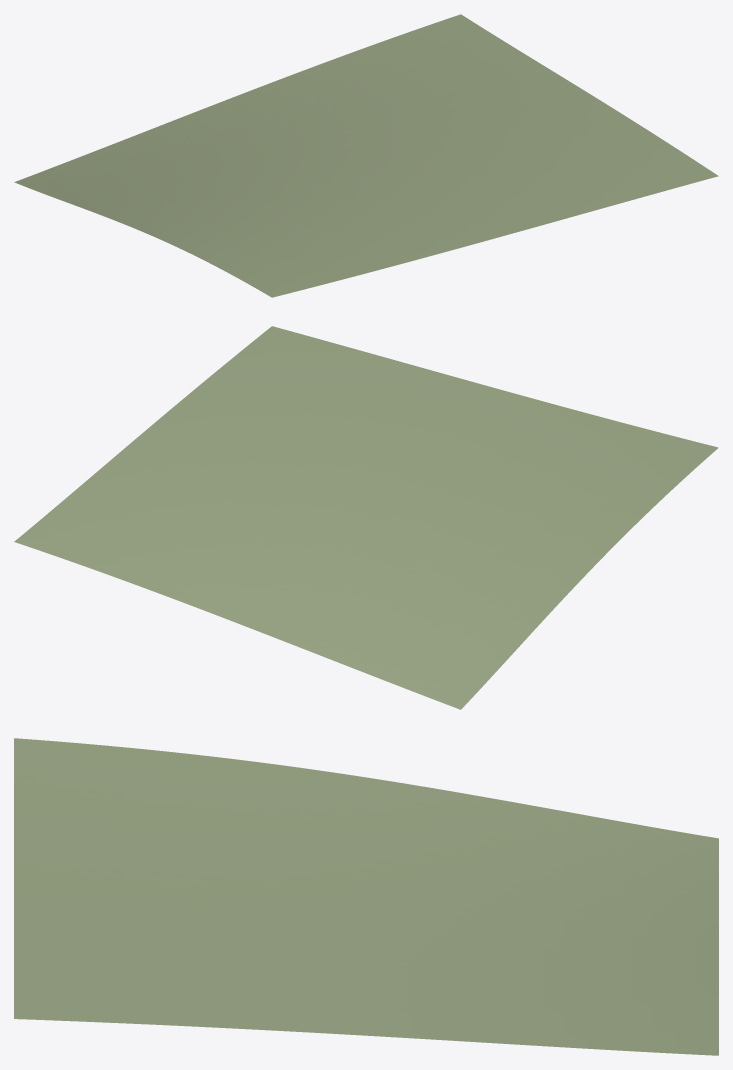
The model's file is expanse-27-11.glb.
3 renders of one model, top to bottom at view 1: azimuth 30°, elevation 25°; view 2: azimuth 150°, elevation 25°; view 3: azimuth 270°, elevation 25°, orthographic. The views are drawn at different scales.
Visible parts, largest first — view 1: expanse-27-11; view 2: expanse-27-11; view 3: expanse-27-11.
Part boxes in pixels (box(x1,y1,x2,y2)): expanse-27-11: box(14, 14, 718, 297); expanse-27-11: box(14, 326, 718, 709); expanse-27-11: box(14, 738, 718, 1055).
Size of the model in its own units: 256 by 47.03 by 256.
